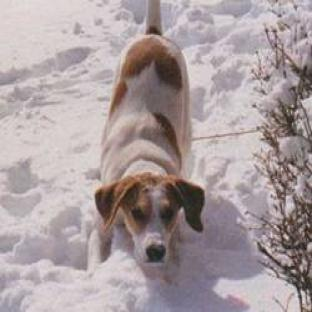Animal: (89, 0, 203, 267)
